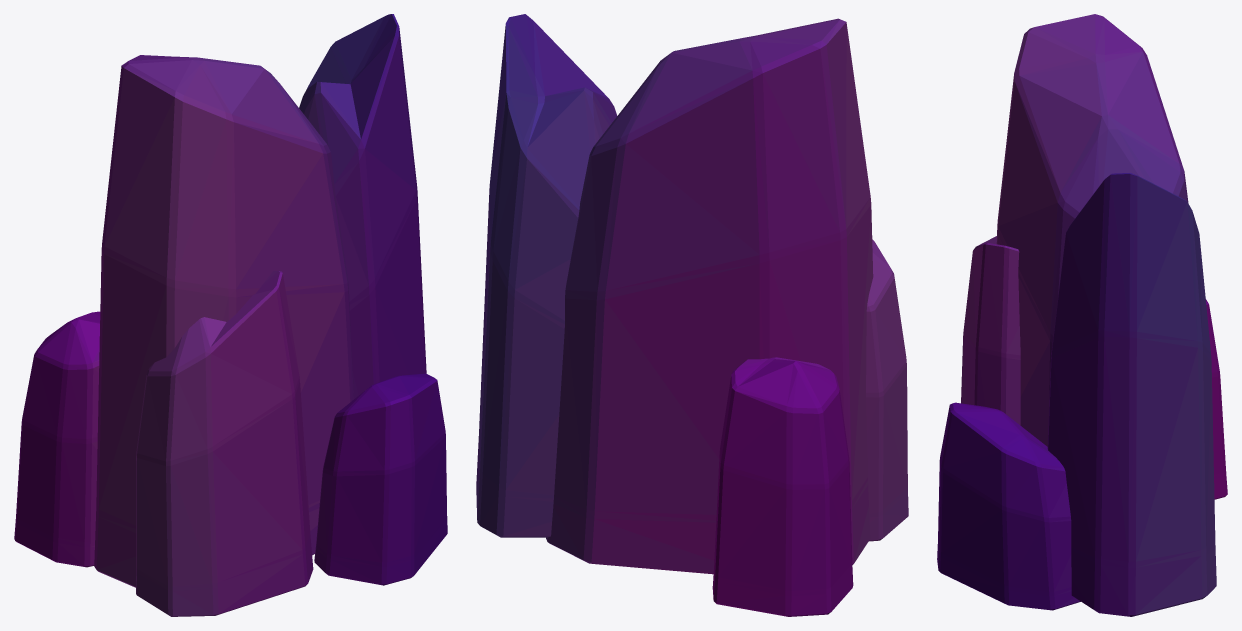
The model's file is SM_CinderCanyon_Rock_C.fbx.
3 renders of one model, left to right at view 1: azimuth 30°, elevation 25°; view 2: azimuth 150°, elevation 25°; view 3: azimuth 270°, elevation 25°, orthographic. The views are drawn at different scales.
Visible parts, largest first — view 1: SM_CinderCanyon_Rock_C; view 2: SM_CinderCanyon_Rock_C; view 3: SM_CinderCanyon_Rock_C.
Boxes of the visible parts, x1,y1,x2,y2 form: SM_CinderCanyon_Rock_C: [14, 14, 447, 616]; SM_CinderCanyon_Rock_C: [476, 14, 908, 616]; SM_CinderCanyon_Rock_C: [937, 14, 1227, 616].
Bounding box in the file's own units: 100 × 72 × 128.
